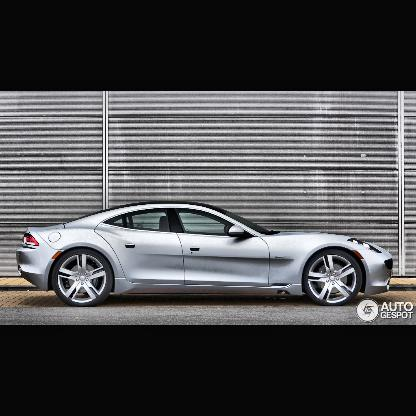Fisker Karma Sedan 2012: (18, 202, 394, 308)
